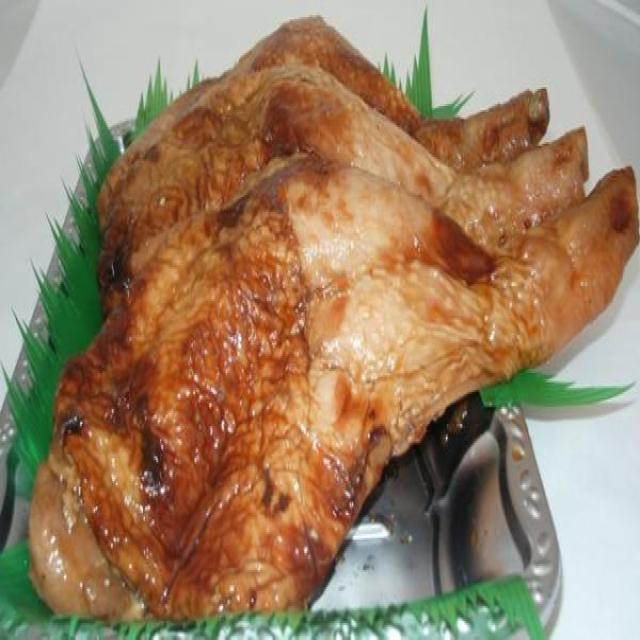鸡肉料理 含炸鸡: (16, 0, 640, 640)
